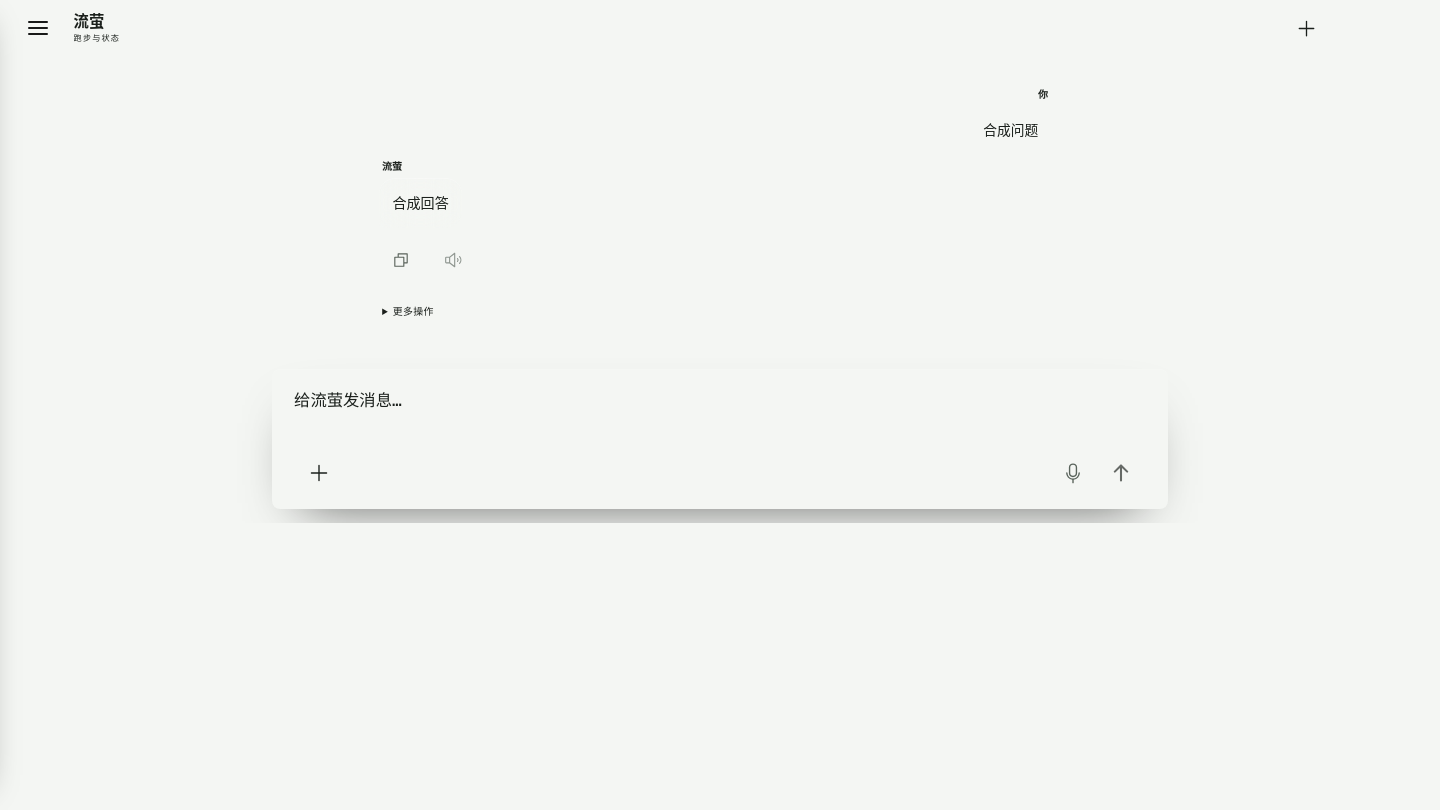
Test: 旧版组仅在有记录时显示，null 删除不触及独立本机任务
Expected: the text "合成回答" is shown, x1=392 y1=190 x2=449 y2=216
Click the button named "打开侧边栏". click: coordinates (38, 28)
box: x1=16 y1=6 x2=60 y2=50
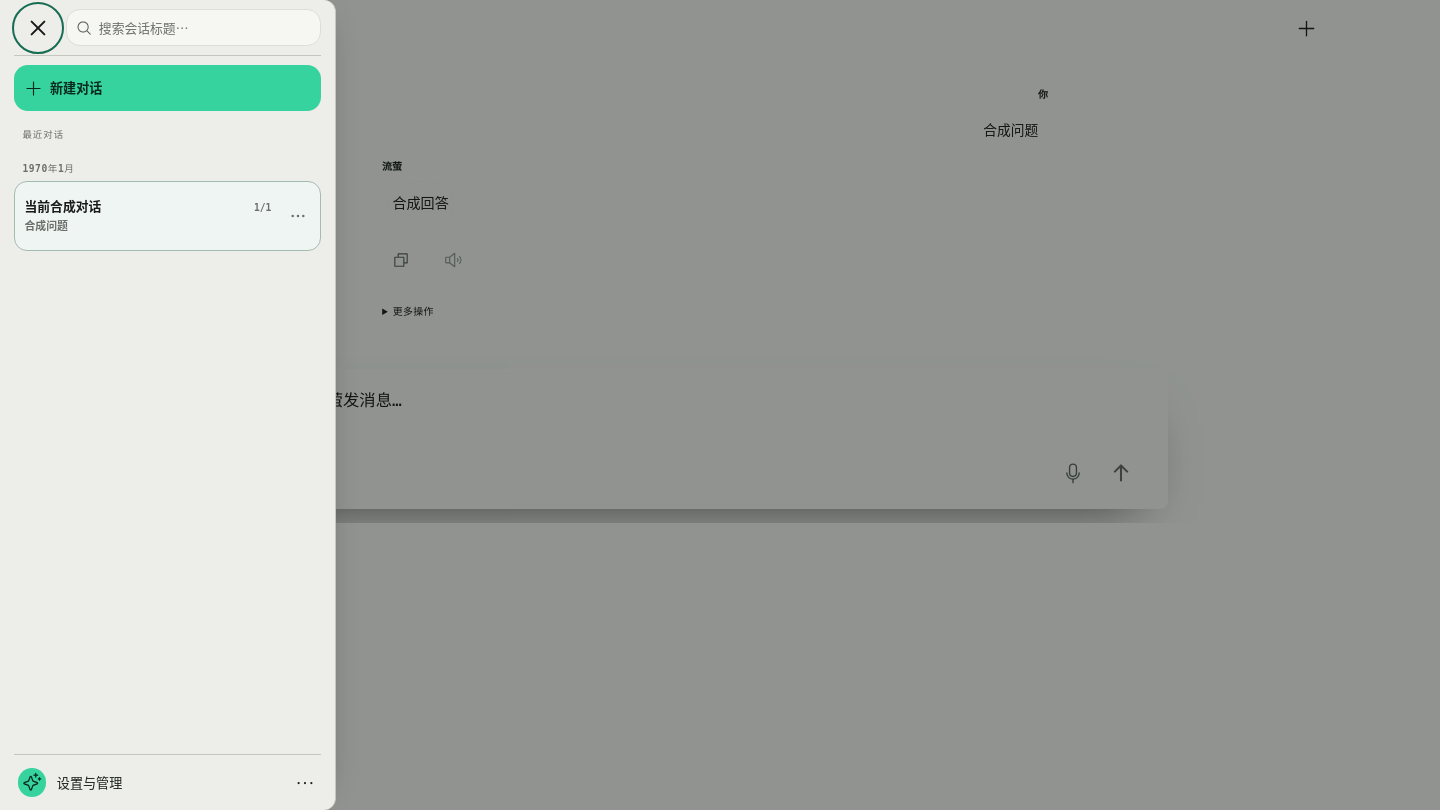
Click the button "设置与管理". click: coordinates (90, 782)
box: x1=14 y1=754 x2=321 y2=809
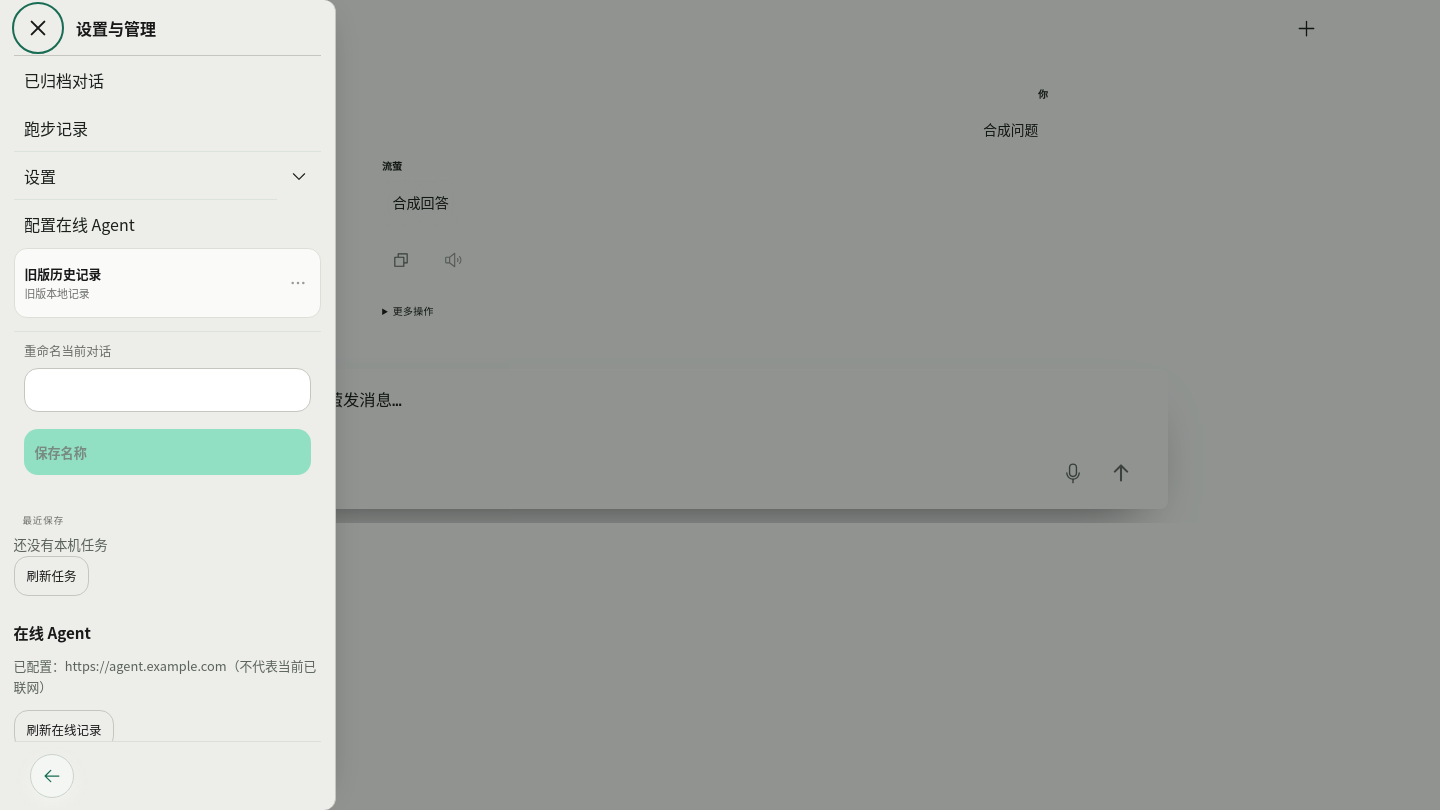
Click the button named "管理对话：旧版历史记录". click: coordinates (298, 283)
box: x1=276 y1=261 x2=320 y2=305
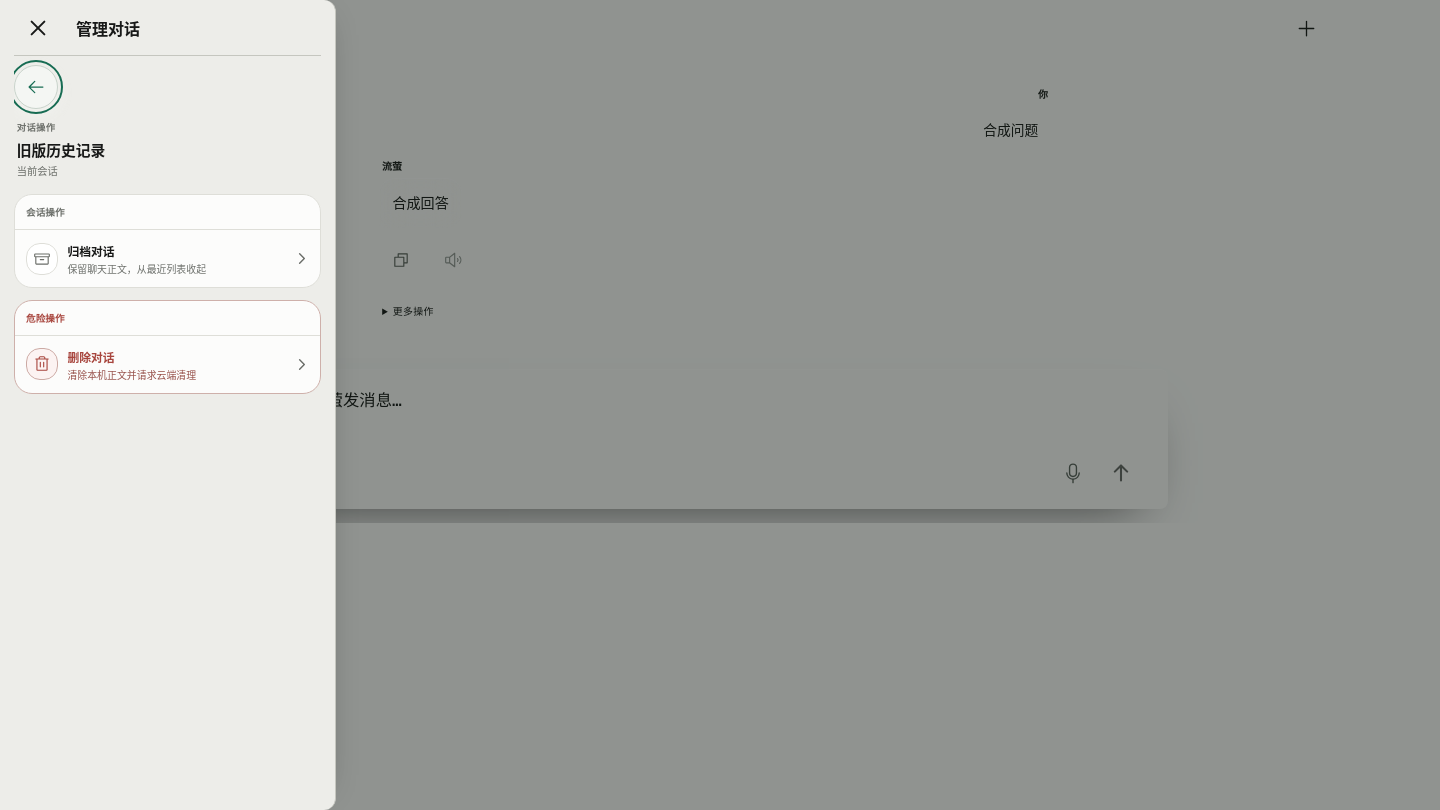
Click the button "删除对话 清除本机正文并请求云端清理". click: coordinates (168, 364)
box: x1=15 y1=336 x2=320 y2=393
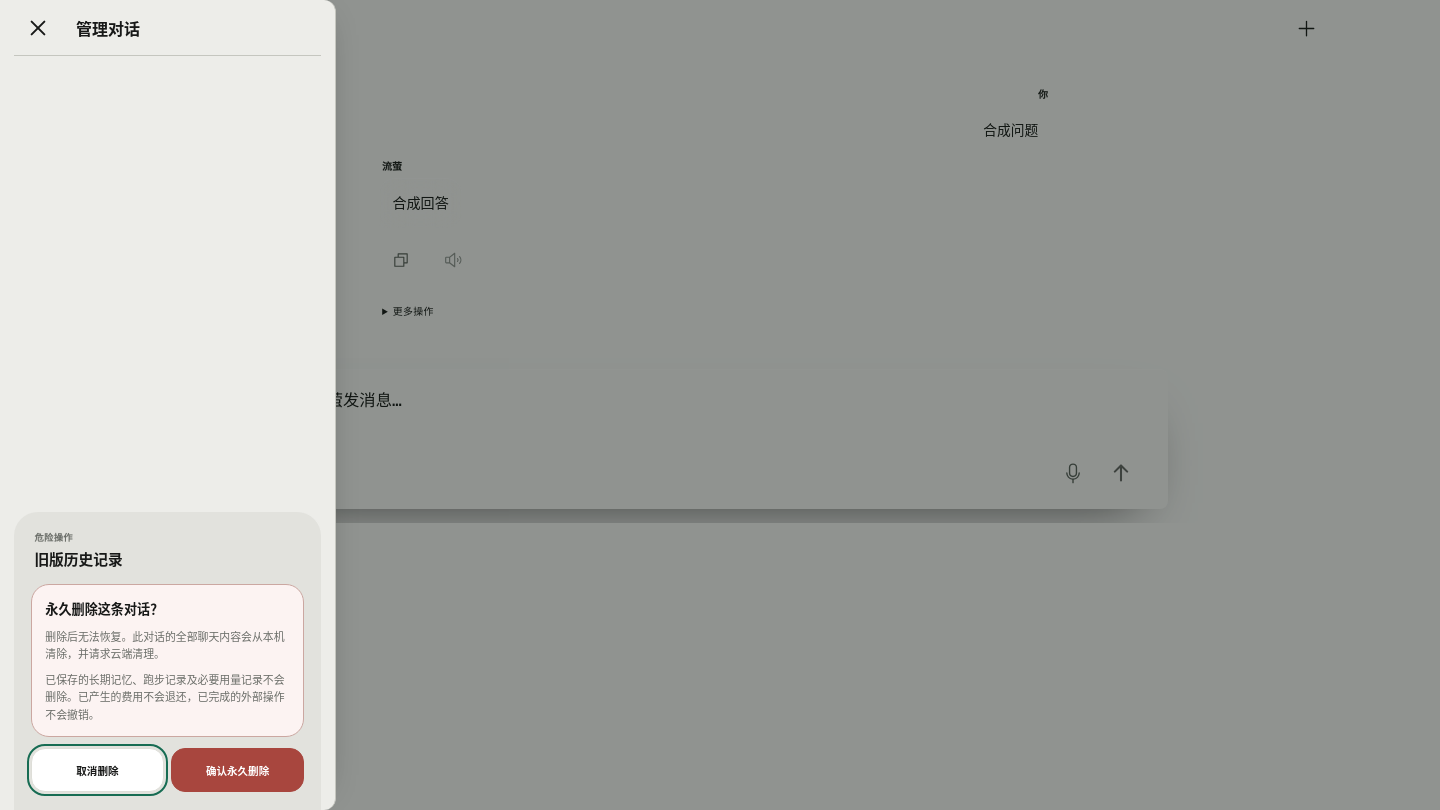
Click the button "确认永久删除". click: coordinates (238, 770)
box: x1=171 y1=748 x2=304 y2=792
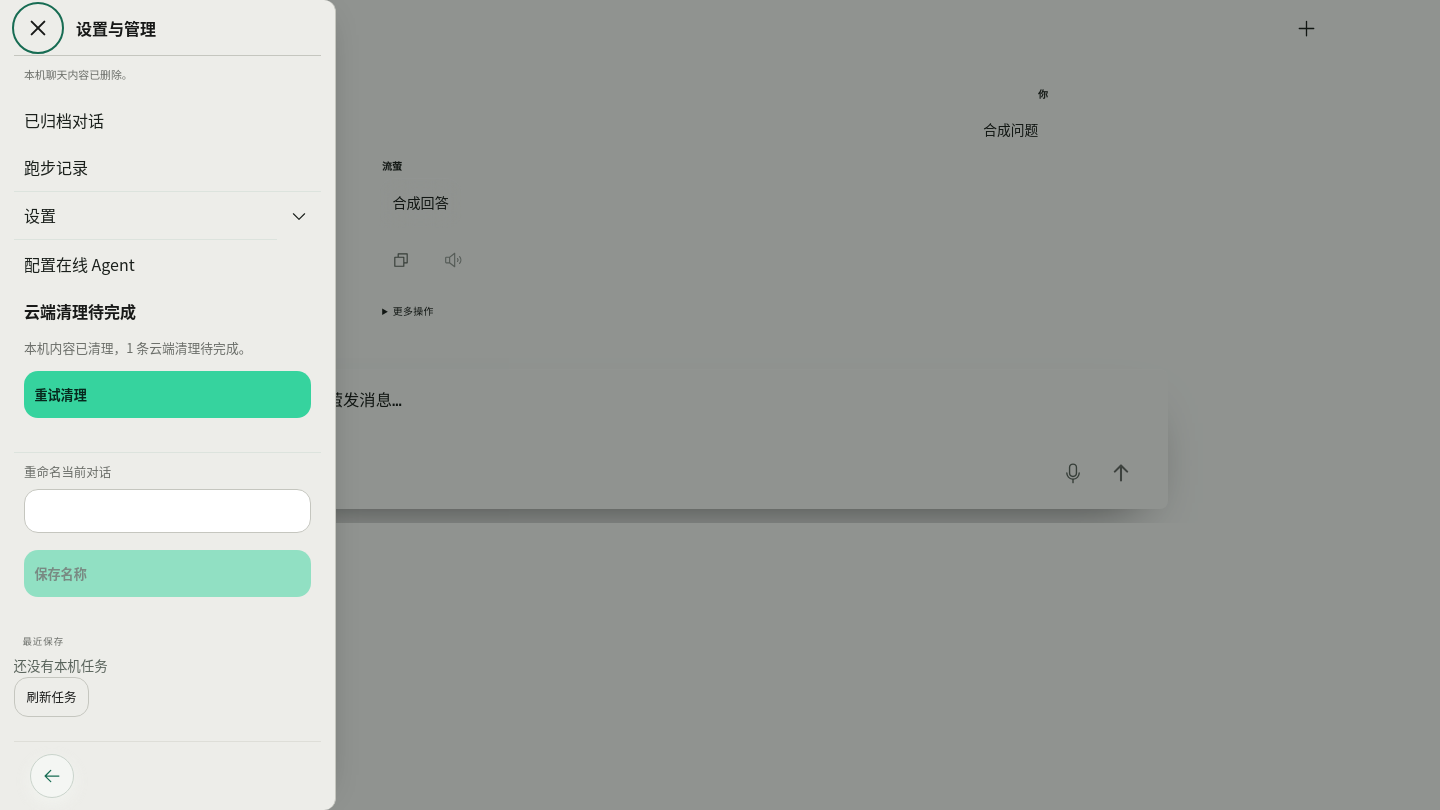
Expected: the text "本机聊天内容已删除。" is shown, x1=24 y1=69 x2=133 y2=82
